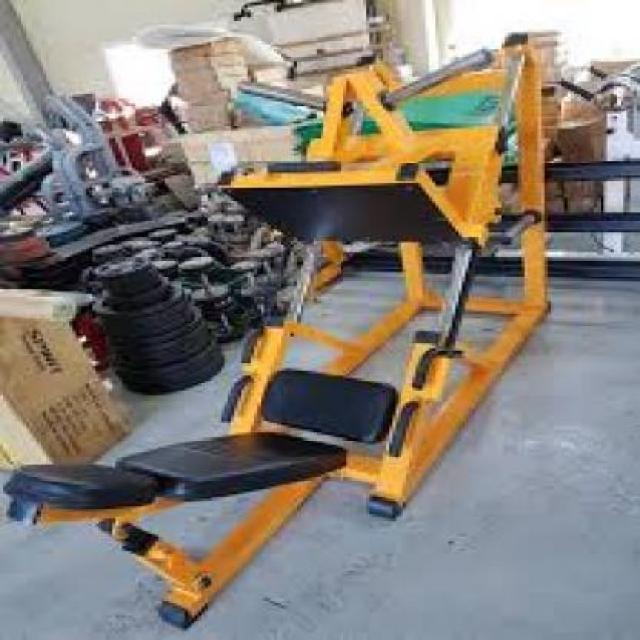leg press: (3, 17, 600, 640)
